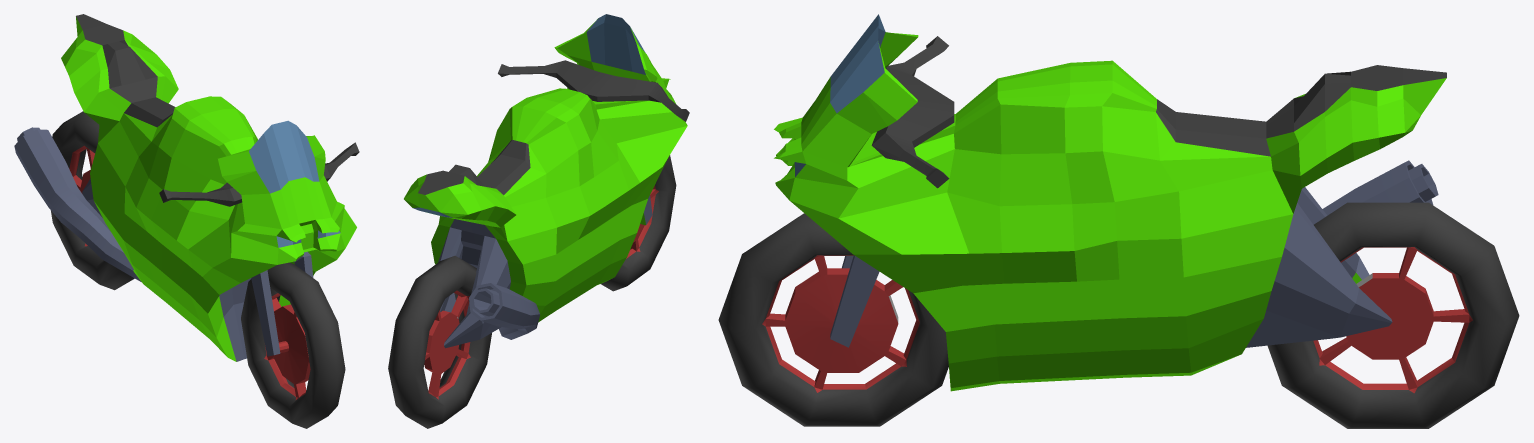
File: Bike.fbx
The picture shows the model from 3 angles, left to right: view 1: azimuth 30°, elevation 25°; view 2: azimuth 150°, elevation 25°; view 3: azimuth 270°, elevation 25°; orthographic projection. The views are drawn at different scales.
Visible parts, largest first — view 1: Bike_Body, Bike_Wheel_Front, Bike_Wheel_Rear, Bike_Handles; view 2: Bike_Body, Bike_Wheel_Rear, Bike_Handles, Bike_Wheel_Front; view 3: Bike_Body, Bike_Wheel_Rear, Bike_Wheel_Front, Bike_Handles.
Boxes of the visible parts, x1,y1,x2,y2 form: Bike_Body: (14,14,356,361); Bike_Wheel_Front: (241,262,345,428); Bike_Wheel_Rear: (51,111,134,290); Bike_Handles: (159,142,359,206); Bike_Body: (404,14,687,348); Bike_Wheel_Rear: (388,255,491,428); Bike_Handles: (498,60,689,121); Bike_Wheel_Front: (601,155,676,291); Bike_Body: (774,14,1446,391); Bike_Wheel_Rear: (1267,202,1519,428); Bike_Wheel_Front: (718,213,948,426); Bike_Handles: (871,36,954,188).
Bounding box in the file's own units: 0.2 × 0.2872 × 0.5095.
